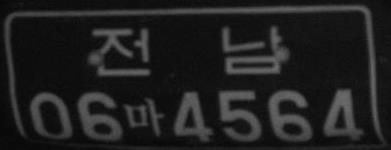0: (28, 91, 73, 139)
4: (322, 87, 364, 140), (172, 90, 213, 142)
5: (217, 89, 263, 141)
6: (75, 90, 124, 141), (266, 89, 313, 142)
마: (126, 96, 164, 136)
전남_D: (92, 26, 283, 77)
